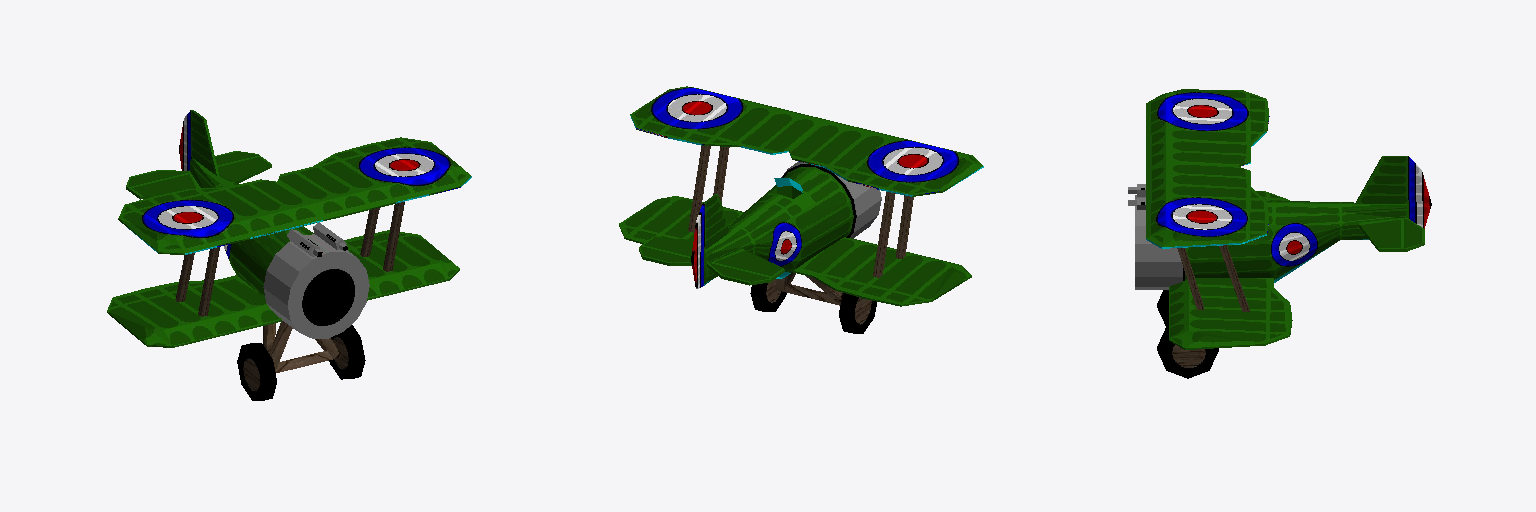
3 views of the same model, side by side, from view 1: azimuth 30°, elevation 25°; view 2: azimuth 150°, elevation 25°; view 3: azimuth 270°, elevation 25° (orthographic).
Parts seen in each view (by area): view 1: Biplane_Biplane.003; view 2: Biplane_Biplane.003; view 3: Biplane_Biplane.003.
Part boxes in pixels (x1,y1,x2,y2): Biplane_Biplane.003: (107, 110, 471, 400); Biplane_Biplane.003: (619, 86, 983, 333); Biplane_Biplane.003: (1128, 89, 1431, 378).
Size of the model in its own units: 4.26 by 2.58 by 3.58.
1 materials, 1 textured.